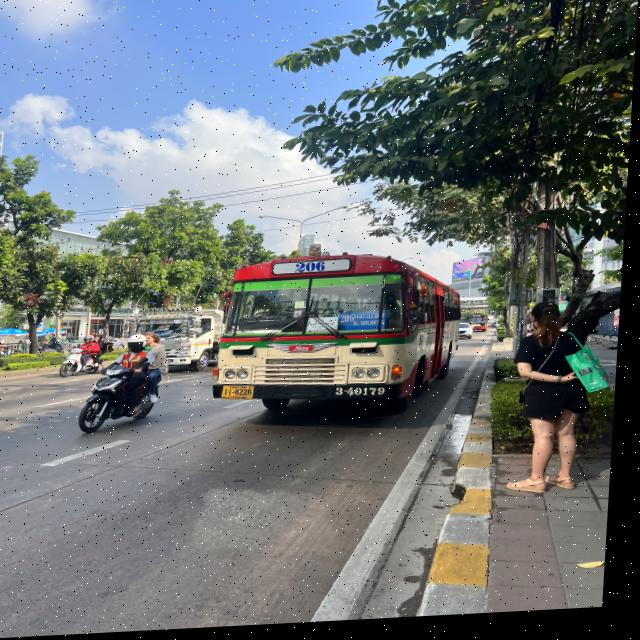BMTA-bus: (215, 252, 467, 423), (468, 318, 494, 339)
Bus-Line-Number: (292, 263, 336, 279)
Destination-Sign-Normal: (342, 315, 392, 335)
